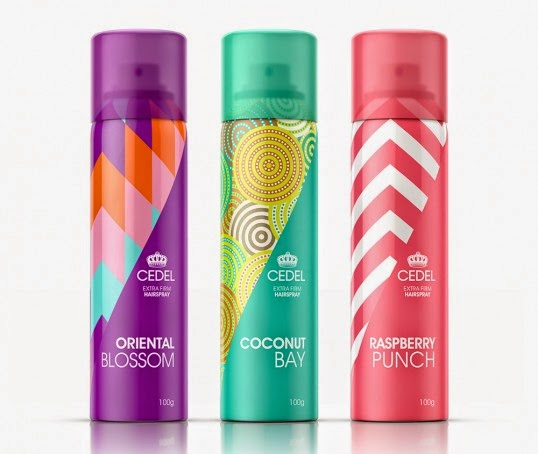Aerosol_cans: (87, 27, 191, 423), (217, 29, 321, 424), (349, 28, 451, 424)
